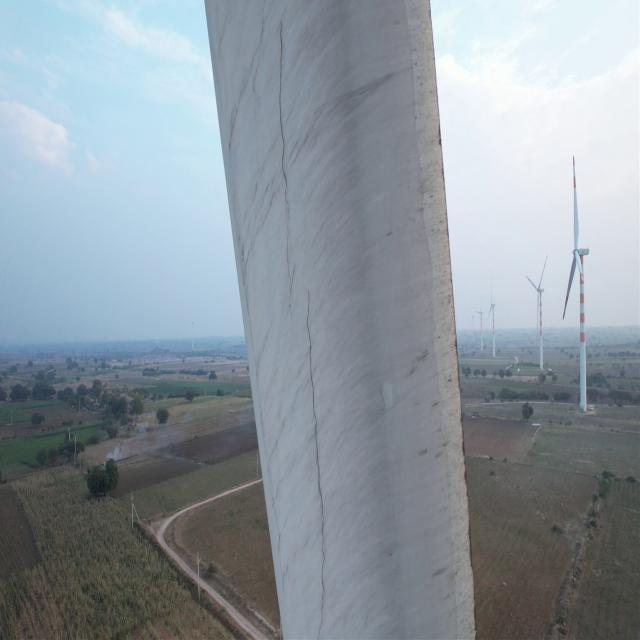Dirt: (205, 0, 482, 640)
